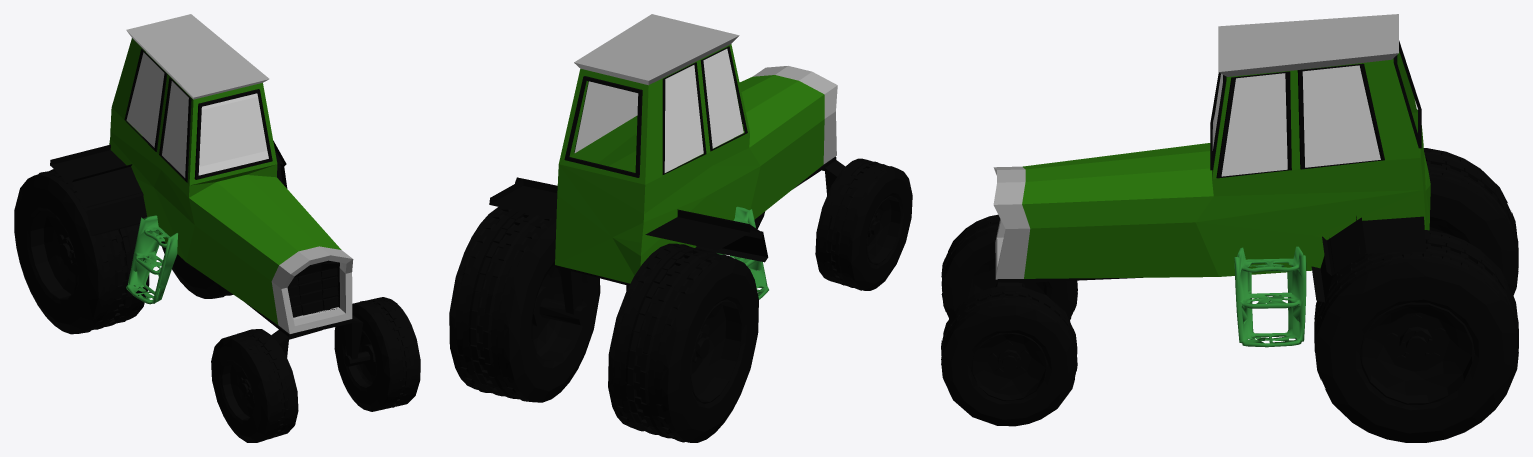
Rendered from TractorFinalizado.glb.
3 renders of one model, left to right at view 1: azimuth 30°, elevation 25°; view 2: azimuth 150°, elevation 25°; view 3: azimuth 270°, elevation 25°, orthographic. The views are drawn at different scales.
Parts seen in each view (by area): view 1: Tractor; view 2: Tractor; view 3: Tractor.
Part boxes in pixels (box(x1,y1,x2,y2)): Tractor: box(14, 14, 420, 442); Tractor: box(449, 14, 912, 442); Tractor: box(941, 14, 1518, 442).
Bounding box in the file's own units: 6.54 × 8.9 × 13.04.
5 materials, 1 textured.
